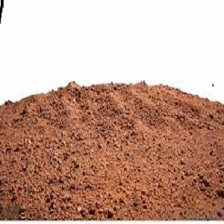clay_soil: (9, 72, 215, 206)
